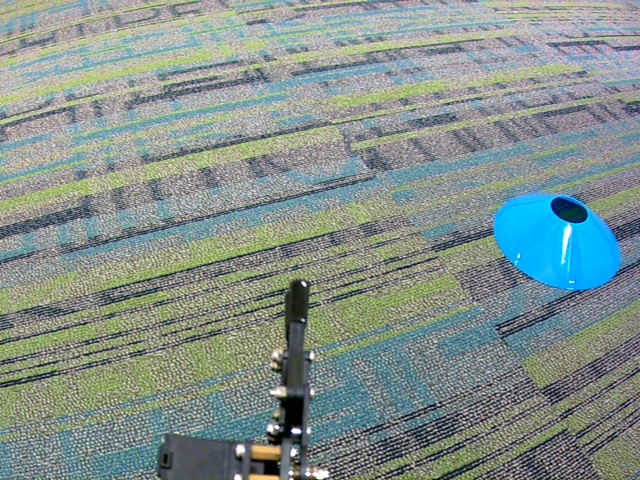cone: (491, 188, 623, 291)
